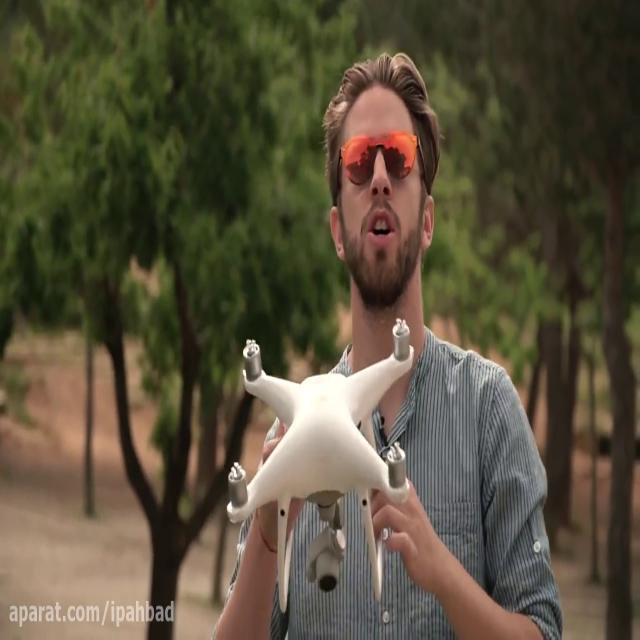drone: (224, 311, 416, 619)
